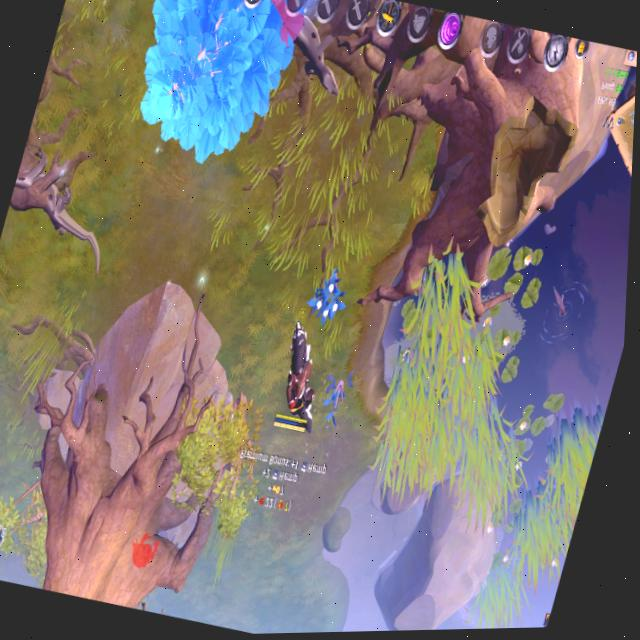hide: (295, 259, 361, 343)
ore: (0, 122, 146, 300), (209, 0, 369, 118), (116, 514, 179, 587)
red: (255, 300, 352, 456)
wisp caged: (100, 0, 326, 196)
